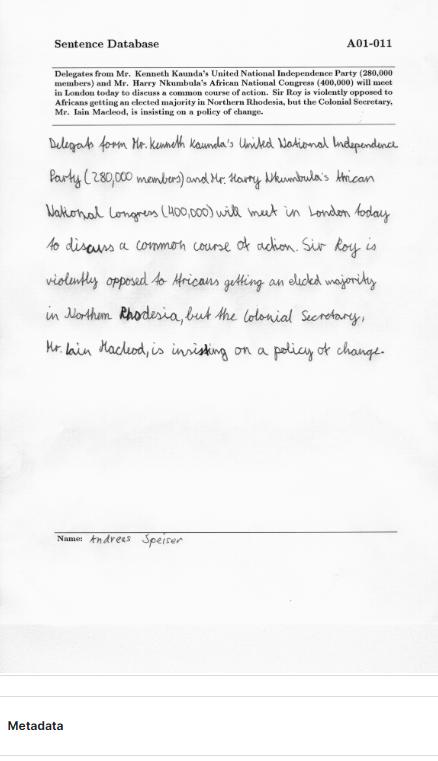text: (46, 130, 400, 158), (43, 269, 380, 296), (43, 337, 388, 363), (44, 201, 394, 226), (43, 302, 367, 329), (44, 233, 379, 258), (47, 167, 378, 192), (54, 64, 394, 78), (53, 97, 397, 110), (52, 87, 394, 100), (52, 77, 396, 89), (52, 106, 267, 118), (56, 530, 184, 549), (52, 36, 161, 50), (4, 718, 66, 733), (344, 36, 392, 51)
